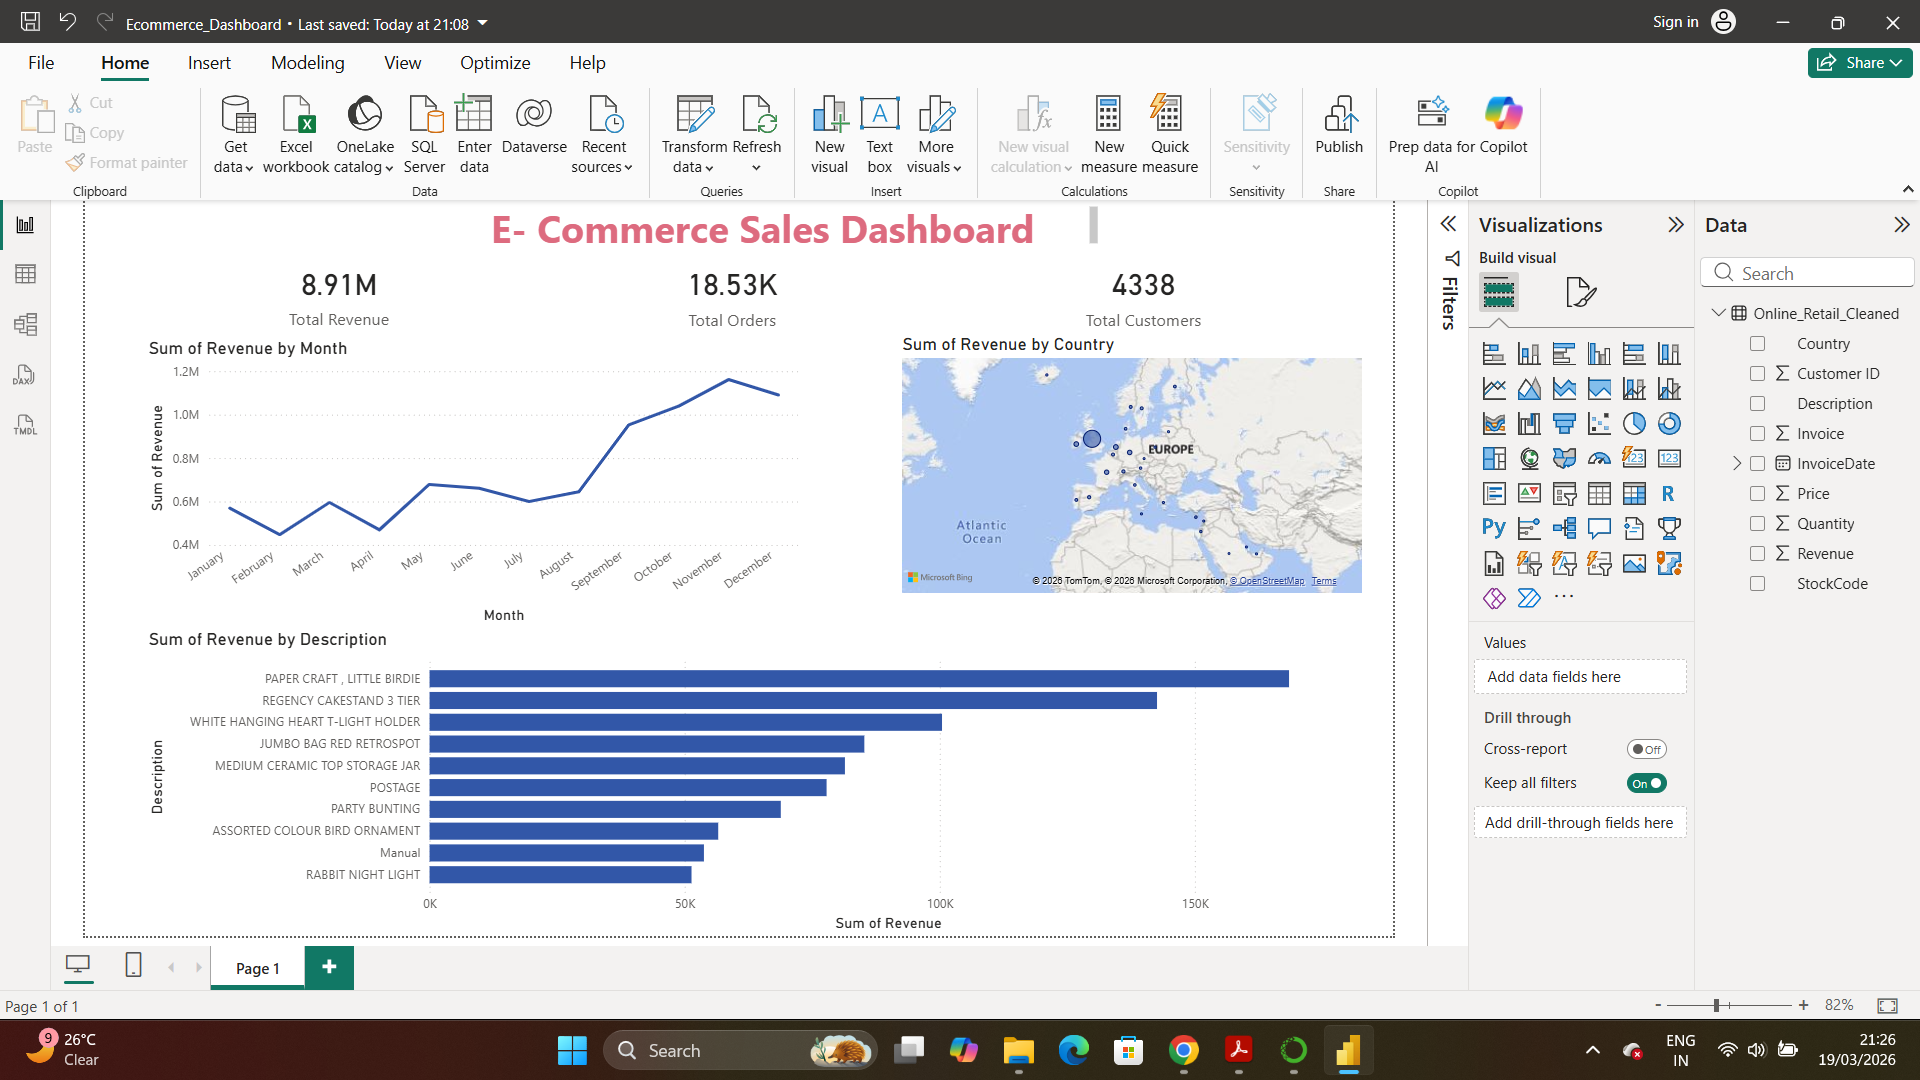

This screenshot's page, from the dashboard's own definition file:
{"tool":"powerbi","page":{"name":"Page 1","canvas":[1280,720],"ordinal":0},"visuals":[{"type":"card","fields":{"Values":["Sum(Online_Retail_Cleaned.Revenue)"]},"box":[57.5,52.6,382.7,78.3],"z":0},{"type":"card","fields":{"Values":["Count(Online_Retail_Cleaned.Invoice)"]},"box":[440.2,50.1,386.4,84.4],"z":1},{"type":"card","fields":{"Values":["Count(Online_Retail_Cleaned.Customer ID)"]},"box":[805.8,50.1,459.8,84.4],"z":2},{"type":"lineChart","fields":{"Category":["Online_Retail_Cleaned.InvoiceDate.Variation.Date Hierarchy.Month"],"Y":["Sum(Online_Retail_Cleaned.Revenue)"]},"box":[57.5,134.5,645.7,284.9],"z":3},{"type":"clusteredBarChart","fields":{"Category":["Online_Retail_Cleaned.Description"],"Y":["Sum(Online_Retail_Cleaned.Revenue)"]},"box":[57.5,419.4,1197.2,300.8],"z":4},{"type":"map","fields":{"Category":["Online_Retail_Cleaned.Country"],"Size":["Sum(Online_Retail_Cleaned.Revenue)"]},"box":[794.8,130.8,459.8,258],"z":5},{"type":"textbox","box":[338.7,0,656.7,52.6],"z":6}]}

Visuals, with their boxes on the page's 1280x720 design canvas (x1, y1, x2, y2). These are canvas units, not pixel positions in the 1920x1080 screenshot, which may show the page scaled, cropped or inside an application window:
card - Sum(Online_Retail_Cleaned.Revenue): l=58, t=53, r=440, b=131
card - Count(Online_Retail_Cleaned.Invoice): l=440, t=50, r=827, b=134
card - Count(Online_Retail_Cleaned.Customer ID): l=806, t=50, r=1266, b=134
lineChart - Online_Retail_Cleaned.InvoiceDate.Variation.Date Hierarchy.Month x Sum(Online_Retail_Cleaned.Revenue): l=58, t=134, r=703, b=419
clusteredBarChart - Online_Retail_Cleaned.Description x Sum(Online_Retail_Cleaned.Revenue): l=58, t=419, r=1255, b=720
map - Online_Retail_Cleaned.Country x Sum(Online_Retail_Cleaned.Revenue): l=795, t=131, r=1255, b=389
textbox: l=339, t=0, r=995, b=53
